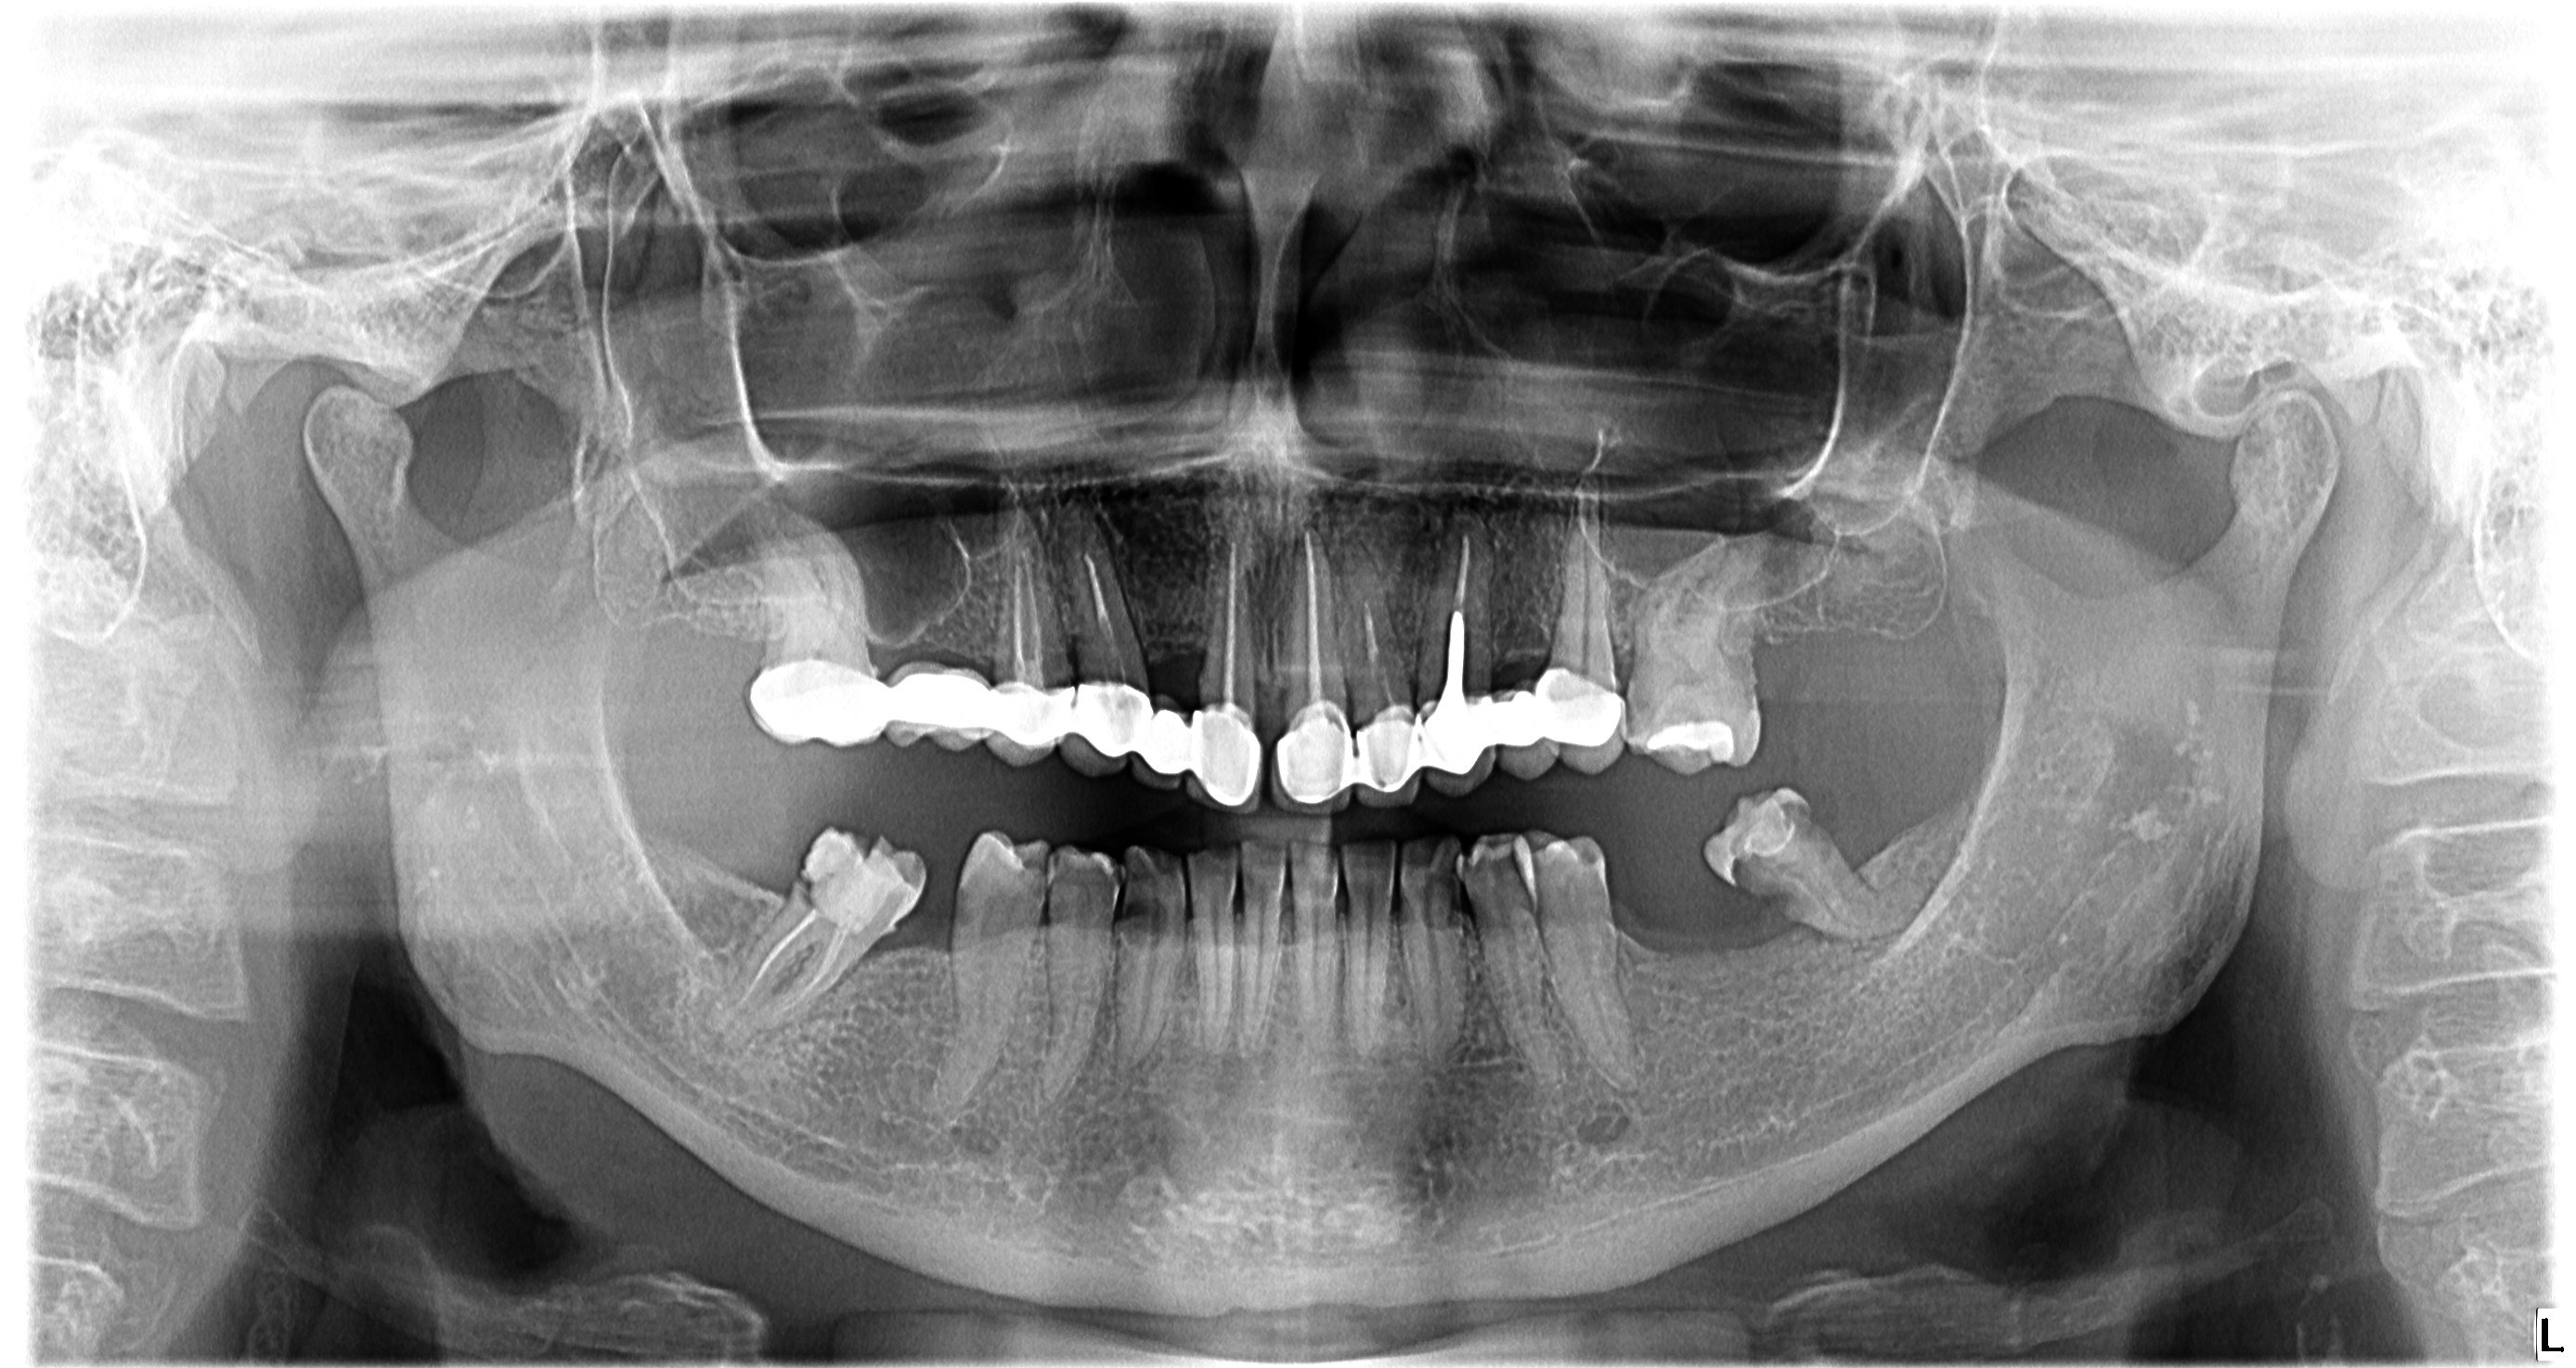CAR: (1774, 782, 1843, 862), (1409, 871, 1475, 949), (1107, 893, 1186, 957), (937, 879, 992, 947)
END: (734, 893, 855, 1029), (1429, 516, 1487, 710), (995, 513, 1056, 683), (1199, 521, 1252, 717), (1286, 521, 1332, 722), (1077, 549, 1123, 687), (1354, 584, 1395, 716)
OBT: (784, 809, 911, 935), (1712, 836, 1813, 930), (1632, 714, 1745, 773)
PRR: (739, 644, 1148, 779), (1273, 681, 1528, 809), (1140, 698, 1266, 814), (1530, 654, 1627, 762)
